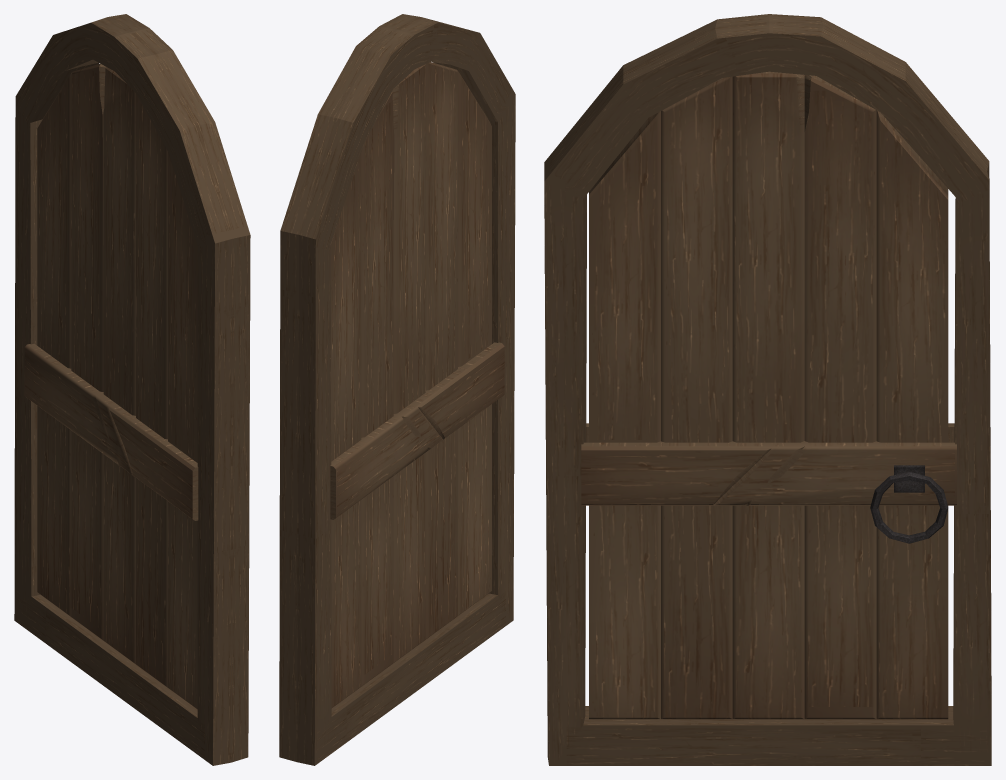
Rendered from Portone di legno.glb.
The picture shows the model from 3 angles, left to right: view 1: azimuth 30°, elevation 25°; view 2: azimuth 150°, elevation 25°; view 3: azimuth 270°, elevation 25°; orthographic projection. The views are drawn at different scales.
Parts seen in each view (by area): view 1: Door_1, Frame_2; view 2: Door_1, Frame_2; view 3: Door_1, Frame_2, Handle_0.
Part boxes in pixels (box(x1,y1,x2,y2)): Door_1: box(24, 63, 198, 709); Frame_2: box(14, 14, 250, 765); Door_1: box(330, 62, 504, 707); Frame_2: box(279, 14, 515, 765); Door_1: box(581, 71, 956, 719); Frame_2: box(544, 14, 991, 765); Handle_0: box(870, 465, 948, 543).
Bounding box in the file's own units: 0.6804 × 7.61 × 4.2.
3 materials, 3 textured.
